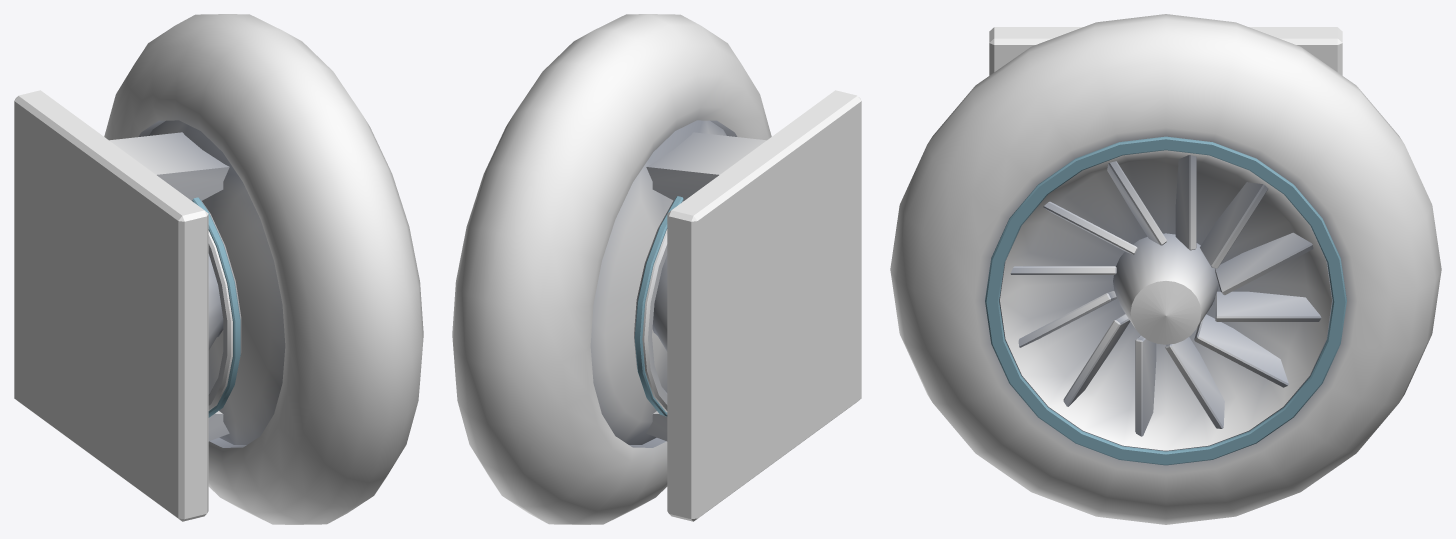
The model's file is R4M_WheelM_Side_Offroad_LOD1.fbx.
3 views of the same model, side by side, from view 1: azimuth 30°, elevation 25°; view 2: azimuth 150°, elevation 25°; view 3: azimuth 270°, elevation 25° (orthographic). The views are drawn at different scales.
Visible parts, largest first — view 1: R4M_WheelM_Side_Offroad_LOD1; view 2: R4M_WheelM_Side_Offroad_LOD1; view 3: R4M_WheelM_Side_Offroad_LOD1.
Part boxes in pixels (bbox=[...]): R4M_WheelM_Side_Offroad_LOD1: bbox=[14, 14, 423, 524]; R4M_WheelM_Side_Offroad_LOD1: bbox=[452, 14, 861, 524]; R4M_WheelM_Side_Offroad_LOD1: bbox=[890, 14, 1441, 524].
Size of the model in its own units: 0.437 by 0.78 by 0.78.
